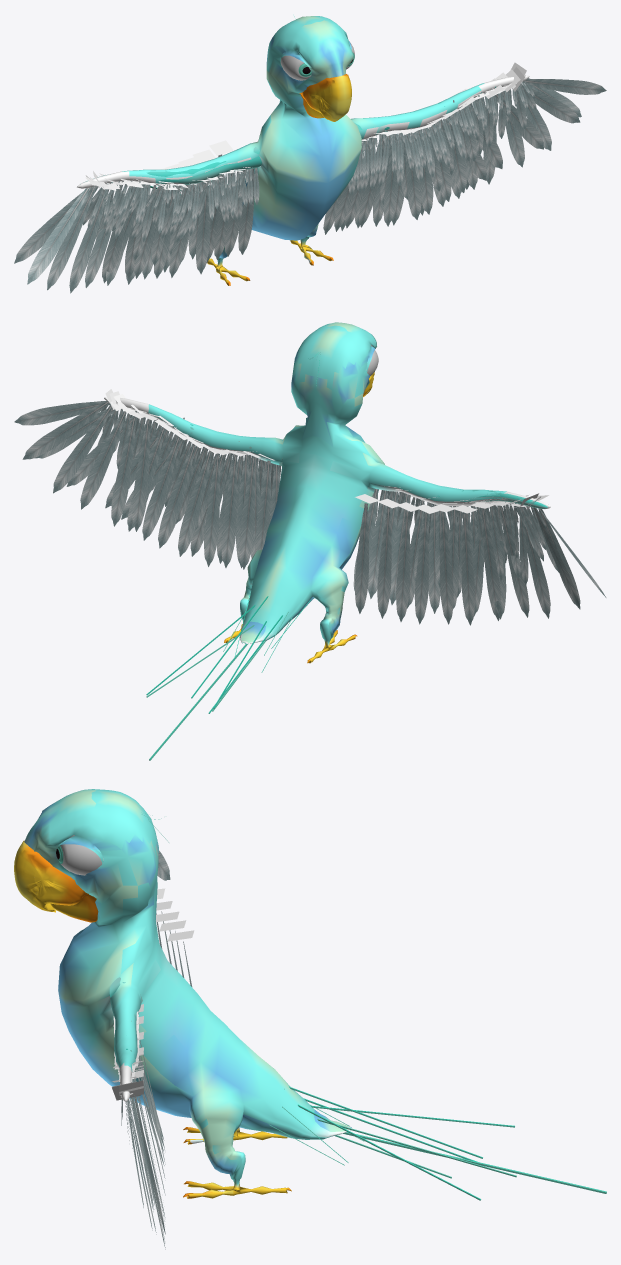
Rendered from ParrotMeshCheck.fbx.
3 renders of one model, top to bottom at view 1: azimuth 30°, elevation 25°; view 2: azimuth 150°, elevation 25°; view 3: azimuth 270°, elevation 25°, orthographic. The views are drawn at different scales.
Parts seen in each view (by area): view 1: Body, Beak, FullWing2nd, FullWing2nd|WingFeather.001|Dupli|110.23.0.0.0.0.0.0.0.0, Wing2nd, FullWing1st, FullWing2nd|WingFeather.001|Dupli|121.23.0.0.0.0.0.0.0.0, FullWing2nd|WingFeather.001|Dupli|109.23.0.0.0.0.0.0.0.0, FullWing1st|WingFeather|Dupli|111.25.0.0.0.0.0.0.0.0, FullWing2nd|WingFeather.001|Dupli|52.23.0.0.0.0.0.0.0.0, FullWing2nd|WingFeather.001|Dupli|111.23.0.0.0.0.0.0.0.0, FullWing1st|WingFeather|Dupli|110.25.0.0.0.0.0.0.0.0 (+22 smaller); view 2: Body, FullWing2nd, FullWing1st|WingFeather|Dupli|118.25.0.0.0.0.0.0.0.0, FullWing1st|WingFeather|Dupli|122.25.0.0.0.0.0.0.0.0, FullWing1st|WingFeather|Dupli|123.25.0.0.0.0.0.0.0.0, FullWing1st|WingFeather|Dupli|116.25.0.0.0.0.0.0.0.0, FullWing1st|WingFeather|Dupli|121.25.0.0.0.0.0.0.0.0, FullWing1st|WingFeather|Dupli|117.25.0.0.0.0.0.0.0.0, FullWing1st|WingFeather|Dupli|114.25.0.0.0.0.0.0.0.0, FullWing1st|WingFeather|Dupli|113.25.0.0.0.0.0.0.0.0, FullWing1st|WingFeather|Dupli|120.25.0.0.0.0.0.0.0.0, FullWing1st|WingFeather|Dupli|124.25.0.0.0.0.0.0.0.0 (+23 smaller); view 3: Body, Beak, Eyes, FullWing1st, FullWing2nd, Feather.
Part boxes in pixels (x1,y1,x2,y2): Body: (77, 16, 529, 285); Beak: (299, 74, 351, 121); FullWing2nd: (85, 140, 260, 190); FullWing2nd|WingFeather.001|Dupli|110.23.0.0.0.0.0.0.0.0: (27, 187, 90, 284); Wing2nd: (86, 147, 261, 184); FullWing1st: (361, 62, 526, 142); FullWing2nd|WingFeather.001|Dupli|121.23.0.0.0.0.0.0.0.0: (47, 186, 95, 290); FullWing2nd|WingFeather.001|Dupli|109.23.0.0.0.0.0.0.0.0: (14, 187, 92, 263); FullWing1st|WingFeather|Dupli|111.25.0.0.0.0.0.0.0.0: (523, 79, 606, 94); FullWing2nd|WingFeather.001|Dupli|52.23.0.0.0.0.0.0.0.0: (196, 181, 210, 274); FullWing2nd|WingFeather.001|Dupli|111.23.0.0.0.0.0.0.0.0: (70, 184, 108, 288); FullWing1st|WingFeather|Dupli|110.25.0.0.0.0.0.0.0.0: (517, 86, 580, 123); Body: (104, 322, 550, 663); FullWing2nd: (355, 486, 548, 513); FullWing1st|WingFeather|Dupli|118.25.0.0.0.0.0.0.0.0: (142, 437, 179, 540); FullWing1st|WingFeather|Dupli|122.25.0.0.0.0.0.0.0.0: (80, 411, 126, 509); FullWing1st|WingFeather|Dupli|123.25.0.0.0.0.0.0.0.0: (53, 405, 112, 493); FullWing1st|WingFeather|Dupli|116.25.0.0.0.0.0.0.0.0: (178, 451, 211, 556); FullWing1st|WingFeather|Dupli|121.25.0.0.0.0.0.0.0.0: (111, 417, 135, 526); FullWing1st|WingFeather|Dupli|117.25.0.0.0.0.0.0.0.0: (158, 445, 195, 548); FullWing1st|WingFeather|Dupli|114.25.0.0.0.0.0.0.0.0: (221, 456, 237, 567); FullWing1st|WingFeather|Dupli|113.25.0.0.0.0.0.0.0.0: (239, 458, 255, 569); FullWing1st|WingFeather|Dupli|120.25.0.0.0.0.0.0.0.0: (132, 420, 149, 531); FullWing1st|WingFeather|Dupli|124.25.0.0.0.0.0.0.0.0: (22, 400, 109, 459); Body: (24, 789, 351, 1198); Beak: (14, 840, 98, 922); Eyes: (56, 844, 102, 875); FullWing1st: (112, 1004, 143, 1100); FullWing2nd: (156, 888, 194, 941); Feather: (343, 1132, 606, 1193).
Size of the model in its own units: 883 by 427 by 576.
